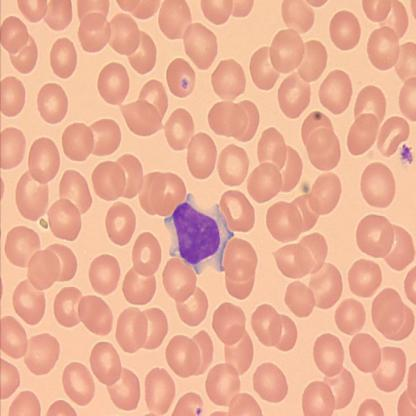Atypical lymphocyte: (164, 192, 235, 275)
